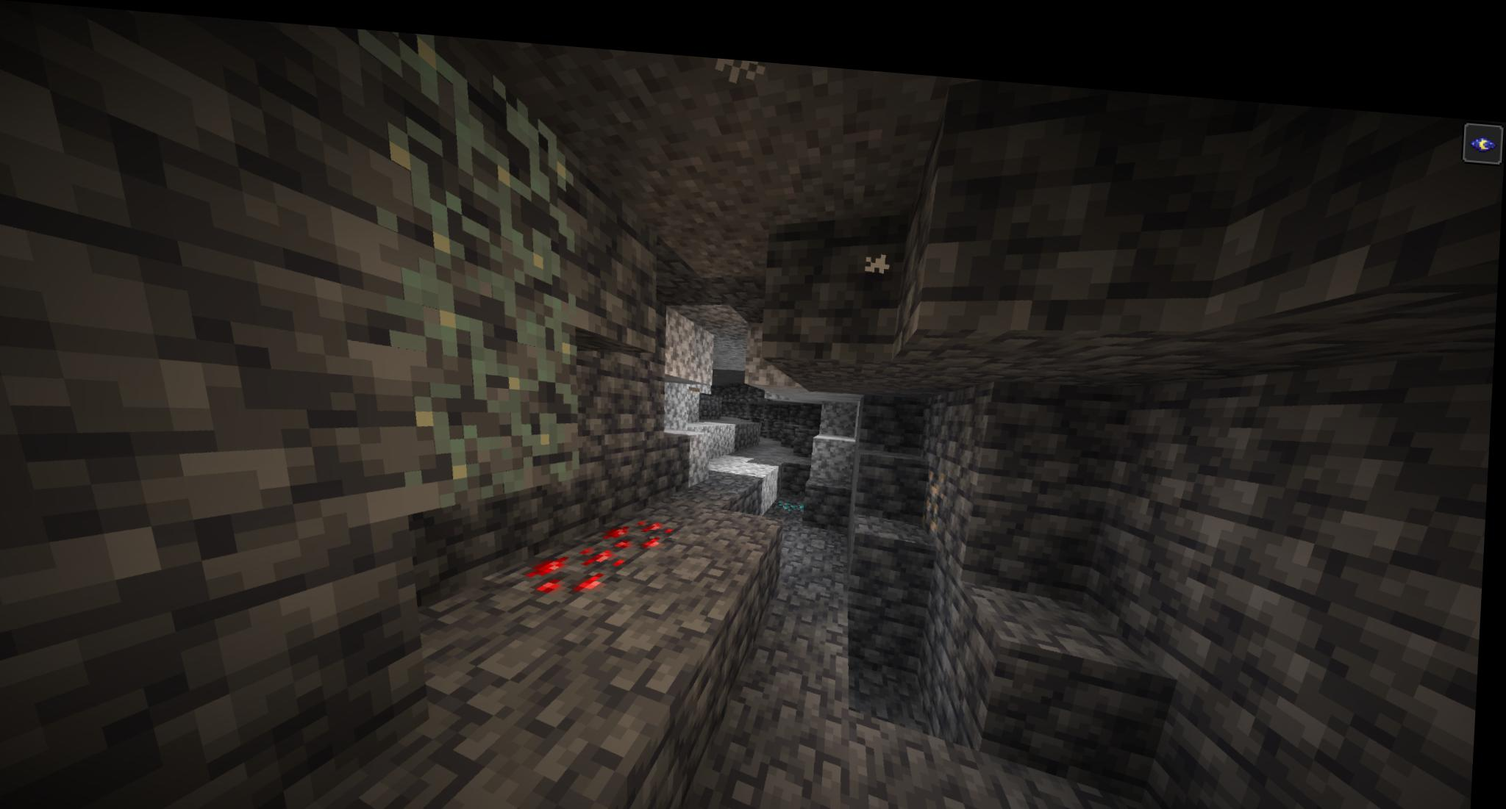diamond ore: (776, 483, 822, 510)
iron ore: (920, 451, 960, 514)
redstone ore: (532, 525, 627, 595), (613, 502, 680, 544)
